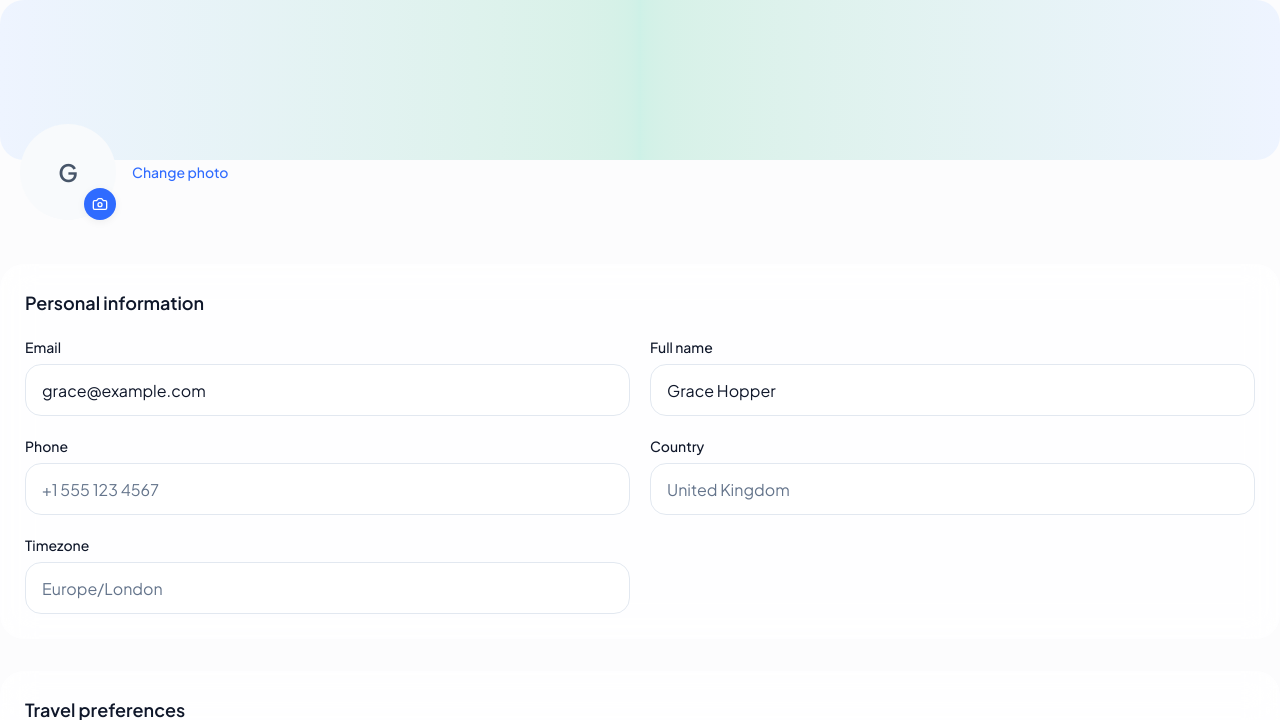
it: ProfilePageContent › saves a personal-info field on blur and shows a saved confirmation
Type "+15551234567" into the field labelled "Phone" at (328, 489), box x1=25 y1=463 x2=630 y2=515
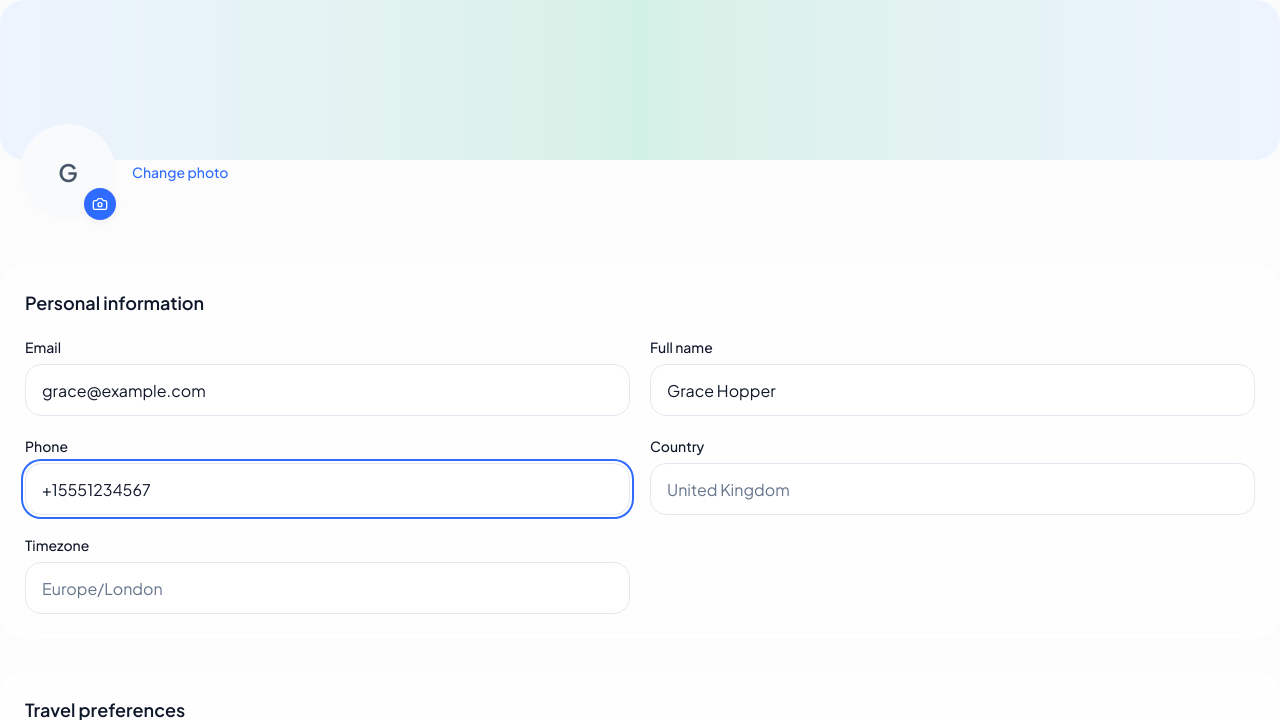
Press Tab
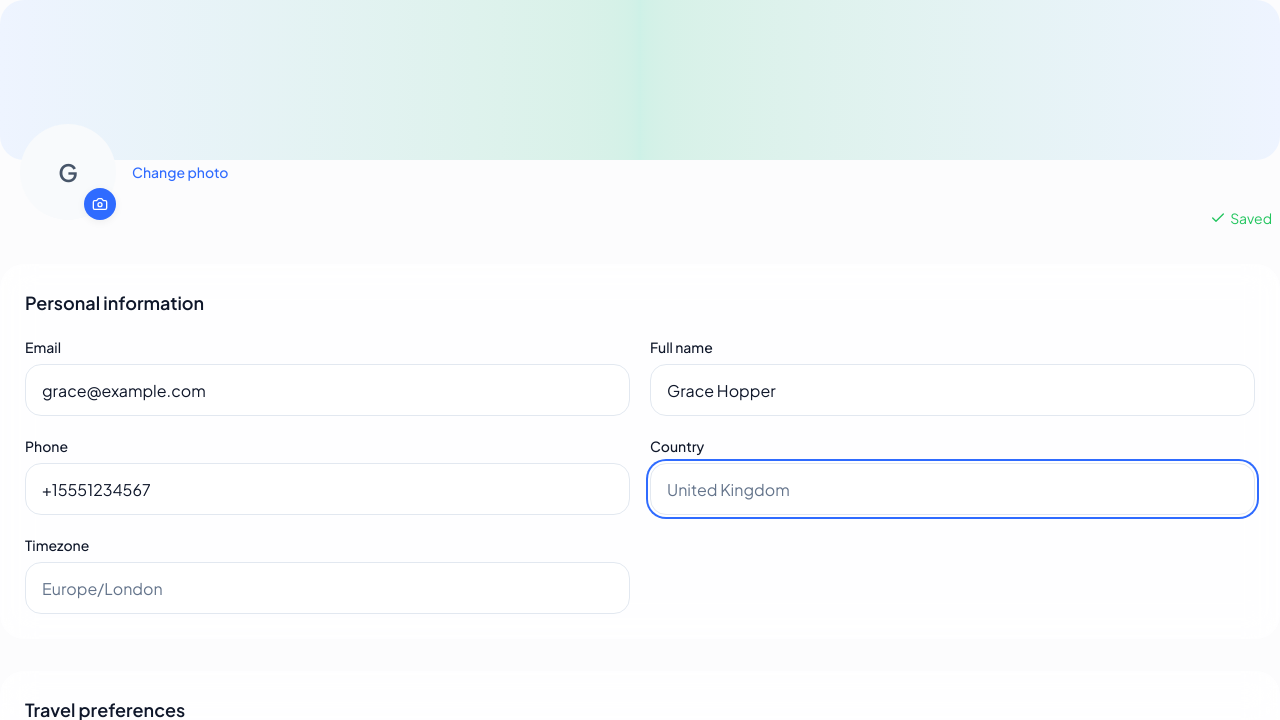
Now the text "Saved" is shown, box x1=1210 y1=208 x2=1272 y2=228
